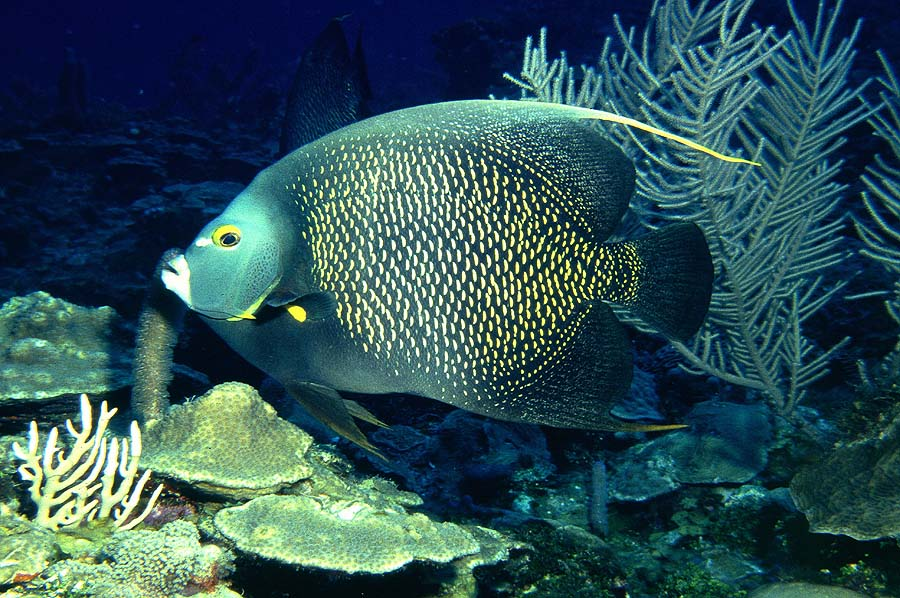Pomacanthus_paru: (125, 76, 758, 458)
